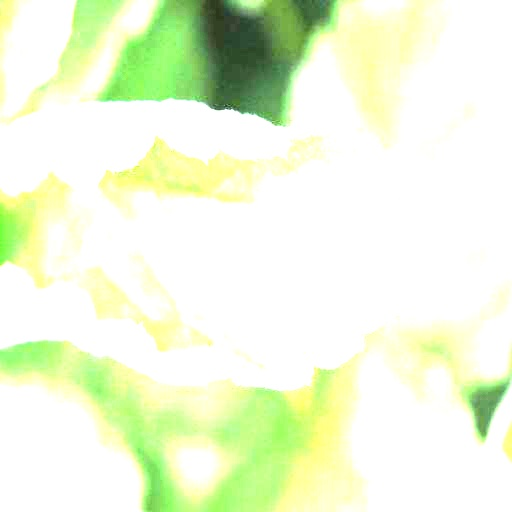Powdery Mildew Leaf: (0, 99, 417, 391)
